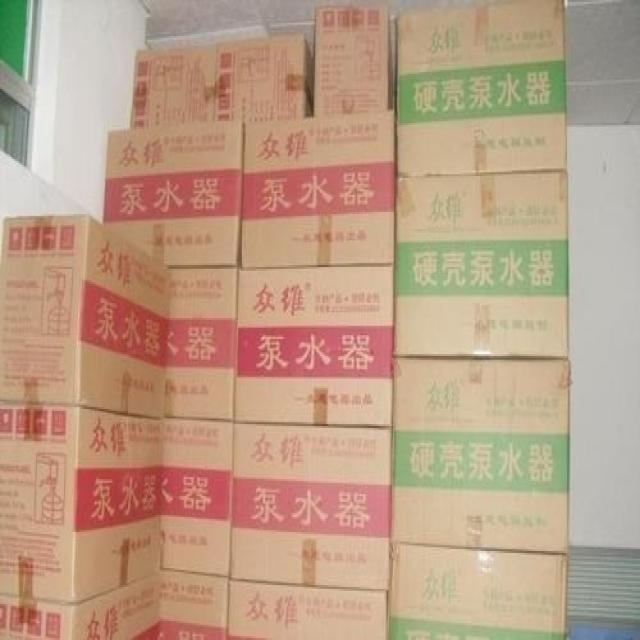box: (390, 355, 571, 555), (0, 216, 172, 418), (1, 400, 164, 602), (395, 172, 570, 359), (394, 1, 567, 178), (231, 423, 392, 592), (233, 266, 396, 429), (236, 110, 396, 266), (103, 118, 245, 270), (389, 547, 568, 638), (162, 415, 234, 580), (164, 269, 237, 420), (0, 572, 161, 638), (227, 581, 389, 637), (311, 5, 394, 113), (215, 37, 314, 119), (131, 44, 217, 126), (158, 570, 230, 637)
